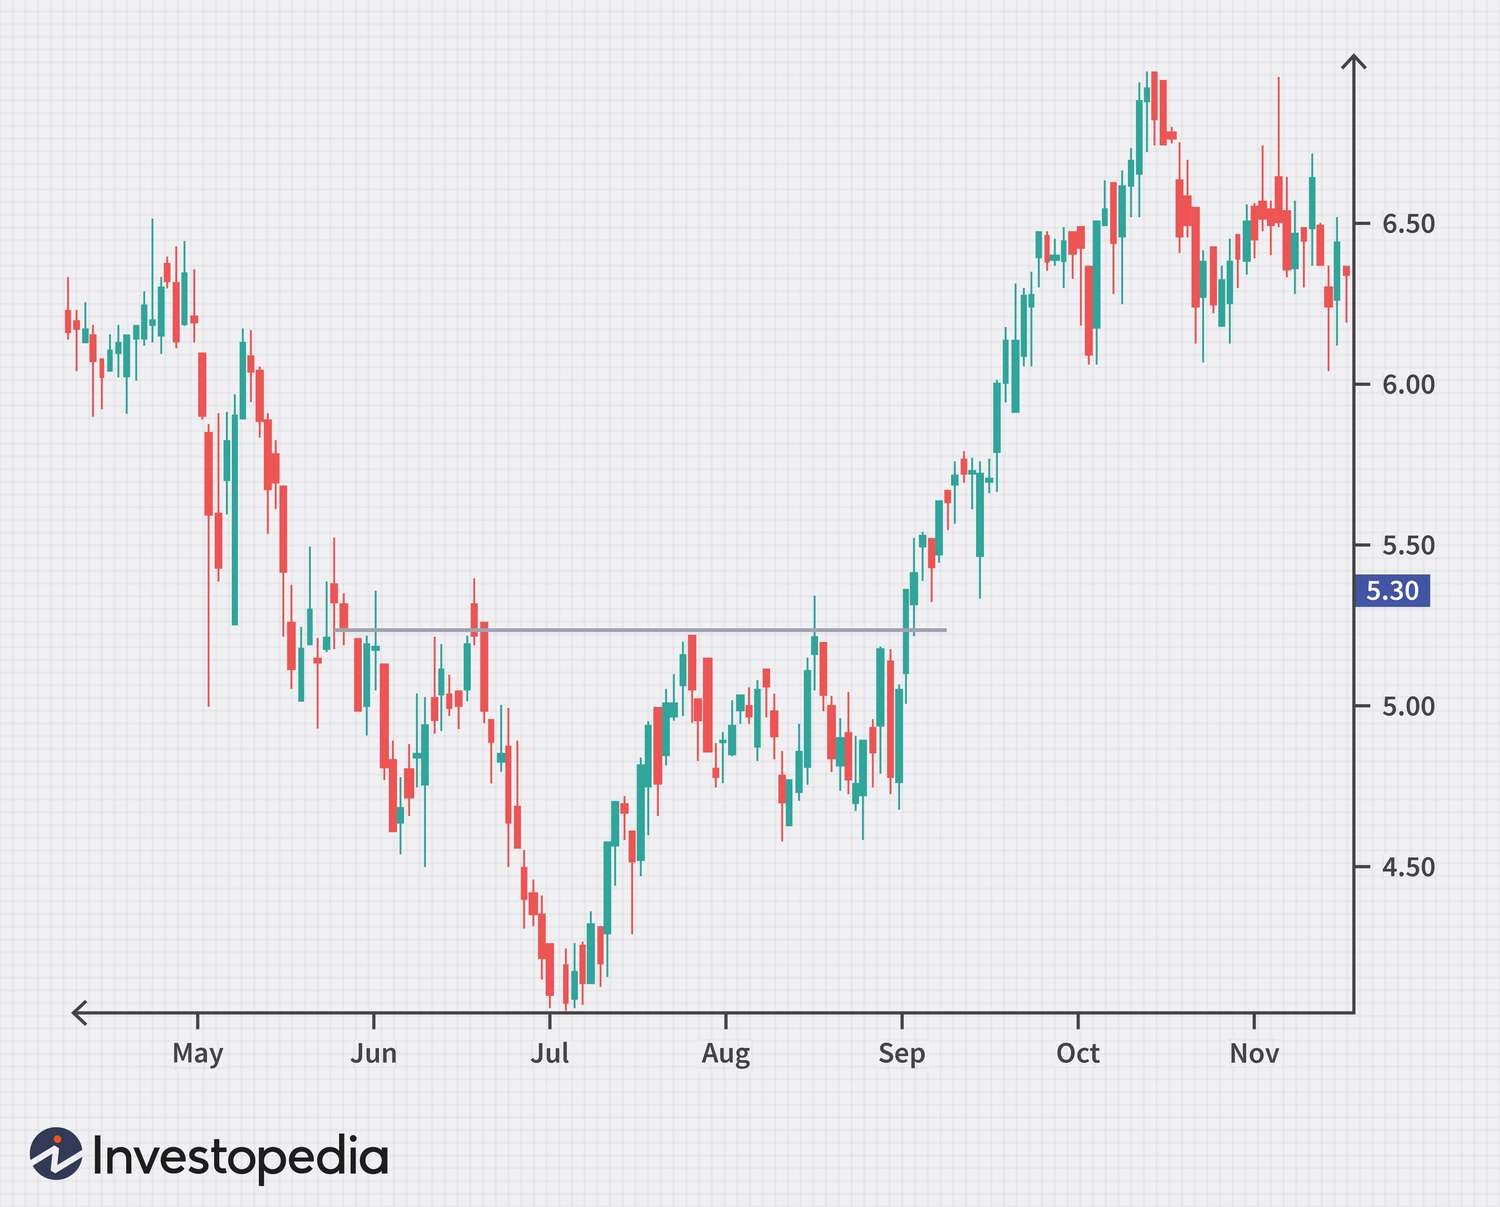W-Pattern: (334, 647, 700, 1001)
